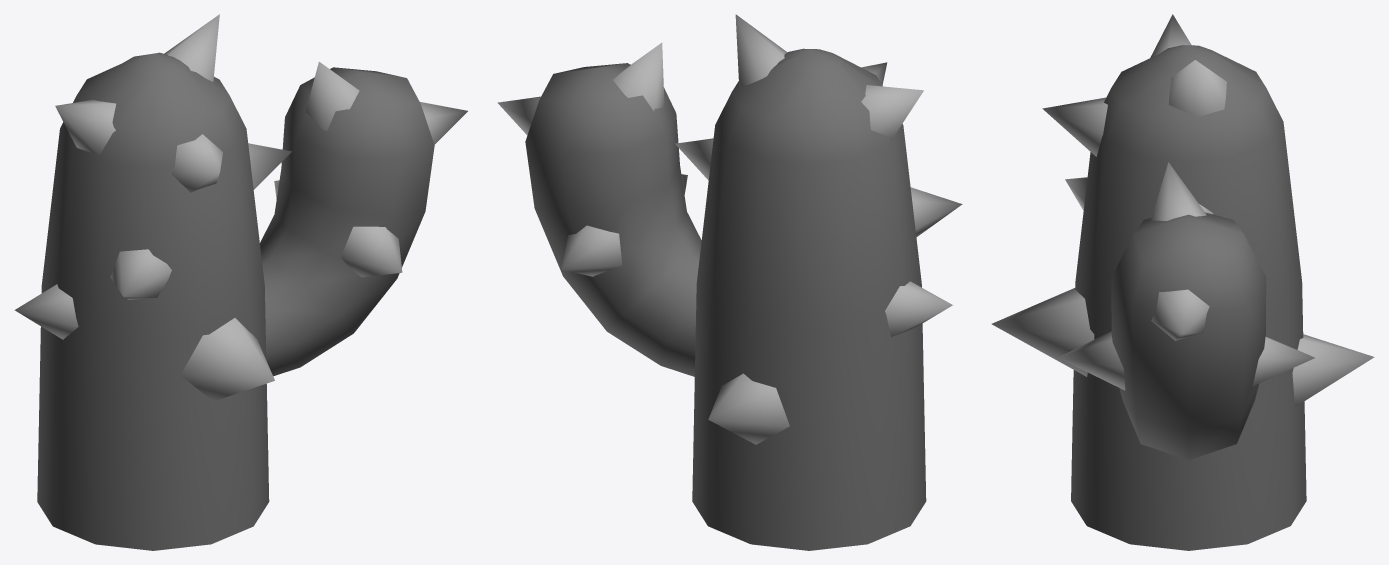
The model's file is Cactus_1.fbx.
3 renders of one model, left to right at view 1: azimuth 30°, elevation 25°; view 2: azimuth 150°, elevation 25°; view 3: azimuth 270°, elevation 25°, orthographic.
Parts seen in each view (by area): view 1: Cactus_1; view 2: Cactus_1; view 3: Cactus_1.
Part boxes in pixels (x1,y1,x2,y2): Cactus_1: (14, 14, 467, 550); Cactus_1: (497, 14, 962, 550); Cactus_1: (991, 14, 1374, 550).
Bounding box in the file's own units: 254 × 183 × 251.
